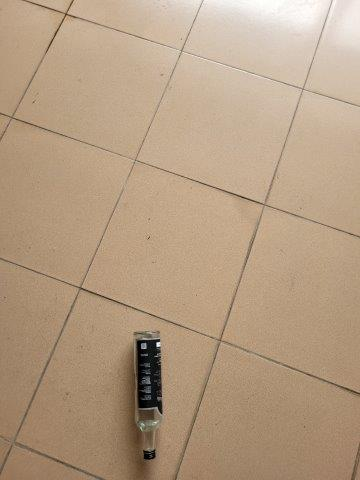botolkaca: (132, 331, 162, 460)
